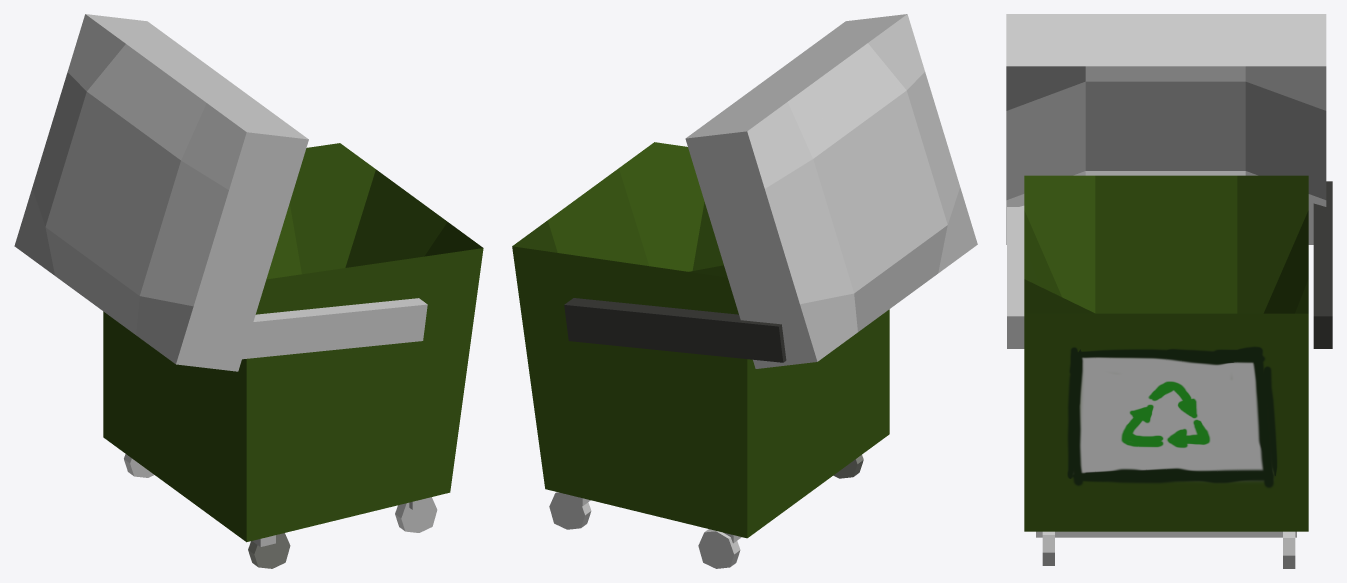
Rendered from smietnik wiekszy.fbx.
3 renders of one model, left to right at view 1: azimuth 30°, elevation 25°; view 2: azimuth 150°, elevation 25°; view 3: azimuth 270°, elevation 25°, orthographic.
Visible parts, largest first — view 1: Cube, Cube.007, Cube.008, Cube.002, Cube.001; view 2: Cube, Cube.007, Cube.009, Cube.003, Cube.004; view 3: Cube, Cube.007, Cube.009, Cube.008, Cube.006, Cube.004, Cube.002.
Part boxes in pixels (x1,y1,x2,y2): Cube: (103,143,483,542); Cube.007: (14,14,308,371); Cube.008: (242,298,427,359); Cube.002: (395,497,437,532); Cube.001: (248,533,290,568); Cube: (512,142,889,538); Cube.007: (685,14,977,368); Cube.009: (564,298,786,362); Cube.003: (698,529,740,568); Cube.004: (549,492,591,529); Cube: (1024,175,1308,531); Cube.007: (1006,14,1326,244); Cube.009: (1313,181,1332,348); Cube.008: (1007,205,1024,348); Cube.006: (1036,531,1296,537); Cube.004: (1283,531,1295,568); Cube.002: (1042,531,1054,565).
Size of the model in its own units: 618 by 851 by 551.
